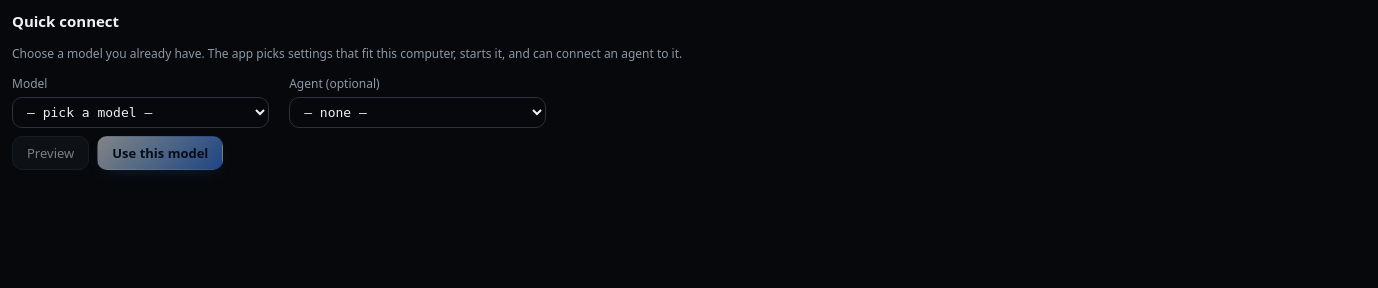
it: QuickConnectPanel › Preview shows the fit and the chosen settings without connecting anything
Select "Cool-3B" in the dropdown labelled "Model". click: (141, 112)
box: [12,96,269,128]
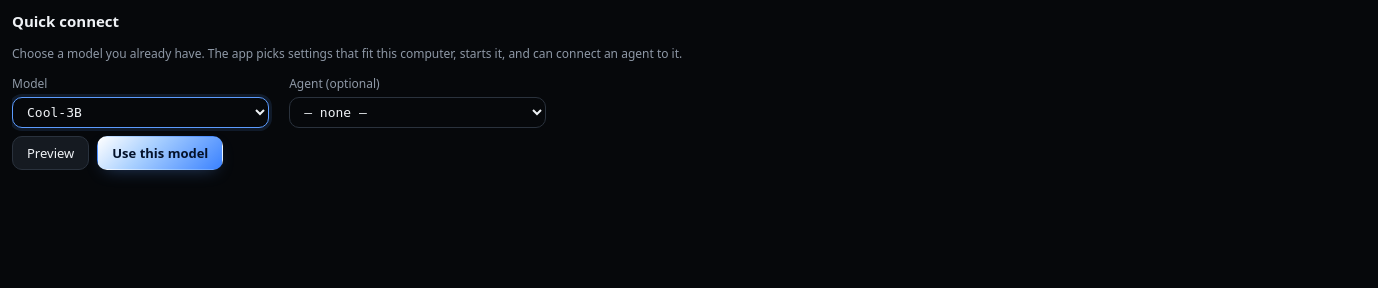
Click the button "Preview". click: (51, 152)
box: [12,136,89,170]
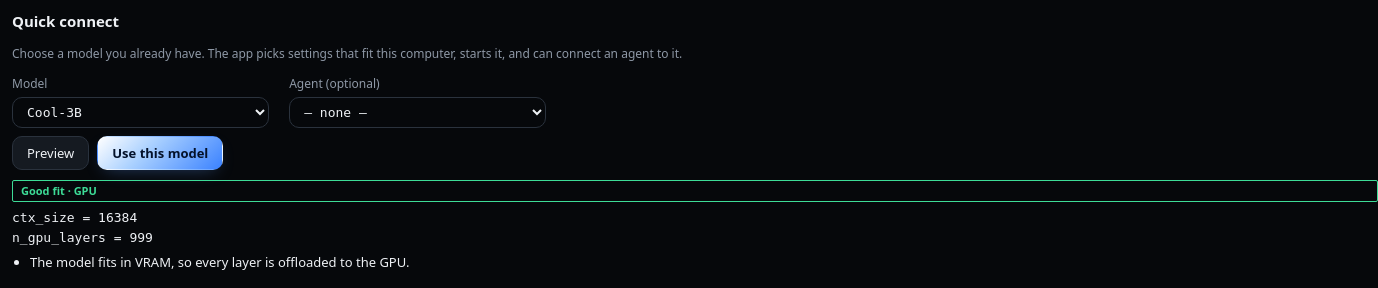
Expected: the text "ctx_size = 16384" is shown, [12,210,137,225]
Expected: the list item "every layer is offloaded" is shown, [30,253,409,271]
